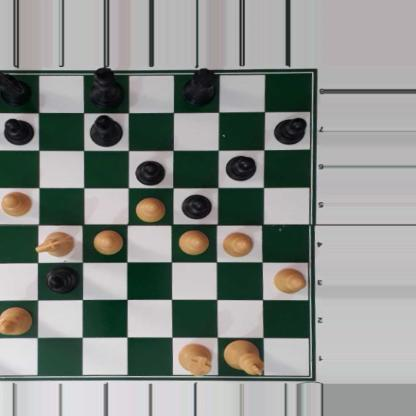black-bishop: (88, 115, 123, 148), (43, 264, 79, 294)
black-king: (89, 65, 125, 109)
black-knight: (0, 69, 31, 104)
black-pawn: (273, 116, 307, 145), (0, 118, 35, 145), (134, 158, 166, 185), (225, 154, 256, 181), (182, 192, 212, 219)
black-rook: (182, 68, 218, 105)
white-bishop: (0, 306, 34, 335)
white-king: (223, 338, 264, 376)
white-knight: (36, 232, 76, 257)
white-pawn: (271, 266, 306, 295), (221, 230, 253, 258), (132, 196, 166, 221), (178, 228, 209, 255), (0, 191, 32, 217), (93, 229, 123, 254)
white-rook: (177, 344, 212, 375)
